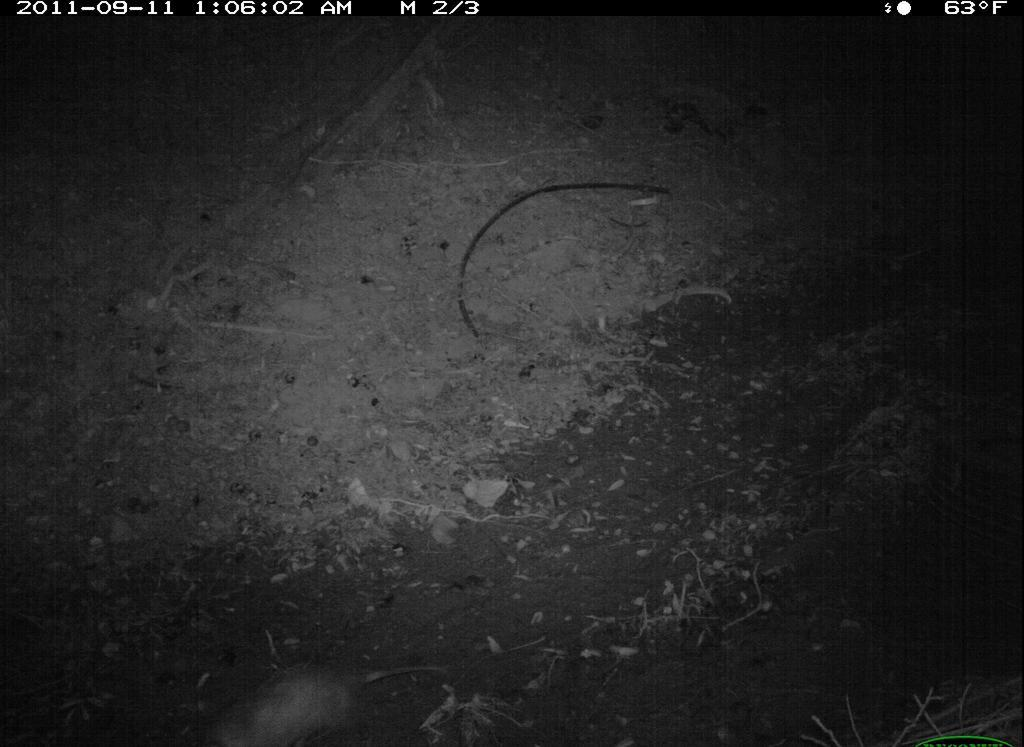opossum: (169, 624, 466, 745)
